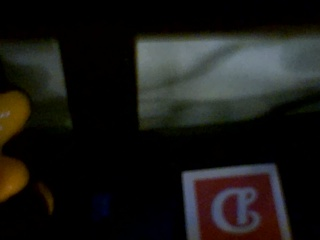D: (193, 173, 283, 240)
